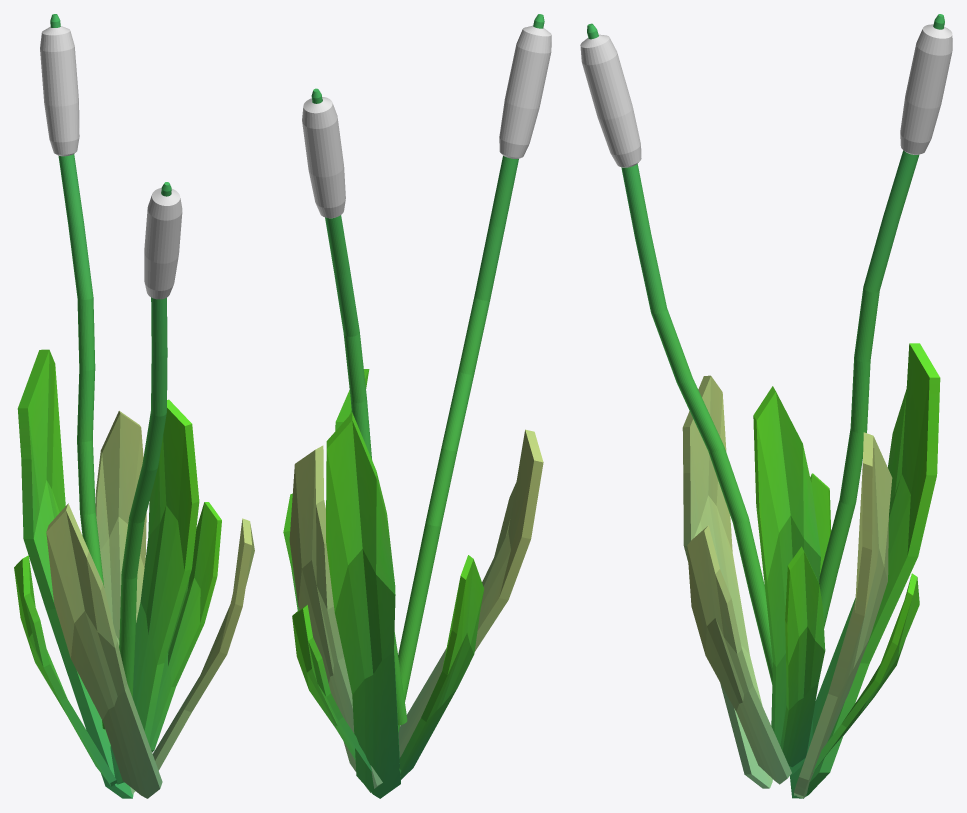
Rendered from CatTailsSmall.fbx.
The picture shows the model from 3 angles, left to right: view 1: azimuth 30°, elevation 25°; view 2: azimuth 150°, elevation 25°; view 3: azimuth 270°, elevation 25°; orthographic projection. The views are drawn at different scales.
Visible parts, largest first — view 1: Plane.004, CatTailStem.002, CatTailStem, CatTail.002, CatTail; view 2: Plane.004, CatTailStem, CatTail, CatTailStem.002, CatTail.002; view 3: Plane.004, CatTailStem, CatTailStem.002, CatTail, CatTail.002.
Part boxes in pixels (x1,y1,x2,y2): Plane.004: [14, 349, 254, 798]; CatTailStem.002: [50, 14, 104, 729]; CatTailStem: [119, 182, 171, 697]; CatTail.002: [40, 26, 79, 156]; CatTail: [144, 188, 182, 299]; Plane.004: [283, 369, 543, 798]; CatTailStem: [398, 14, 544, 731]; CatTail: [499, 25, 551, 158]; CatTailStem.002: [311, 88, 407, 725]; CatTail.002: [302, 97, 345, 218]; Plane.004: [682, 343, 940, 798]; CatTailStem: [587, 23, 772, 684]; CatTailStem.002: [819, 14, 944, 628]; CatTail: [580, 34, 641, 167]; CatTail.002: [900, 24, 952, 154].
Bounding box in the file's own units: 93.63 × 313 × 135.
